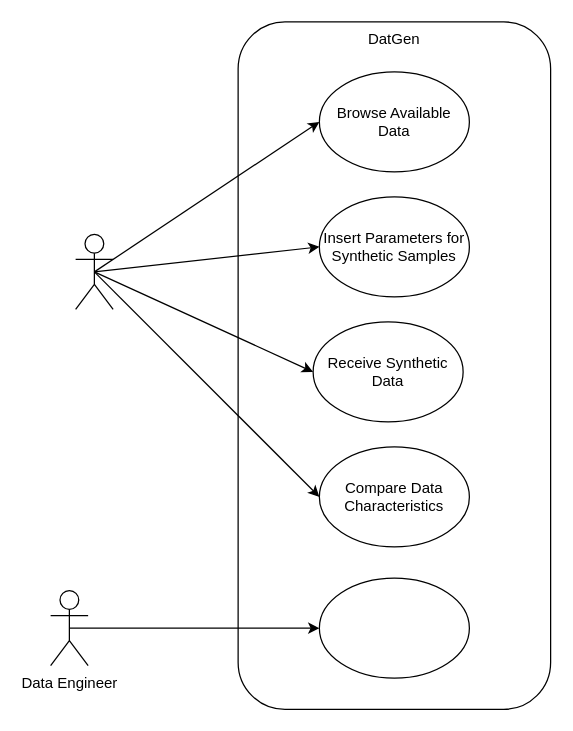
Some shapes in this 573 by 731 pixel diagram are drawn without their labels. The shapes that lost their labels are listed below. From the top down, each one's centre as x and y in pixels, then its label:
the point at 93,271: Data Scientist
the point at 393,627: Exposing Data Assets to Dat Gen
